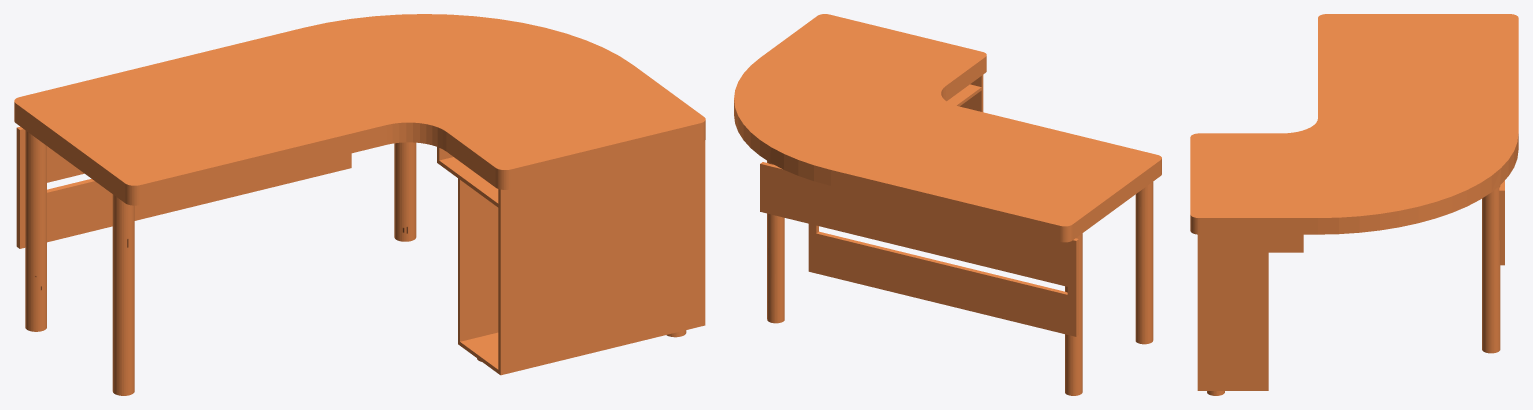
Rendered from desk.dae.
The picture shows the model from 3 angles, left to right: view 1: azimuth 30°, elevation 25°; view 2: azimuth 150°, elevation 25°; view 3: azimuth 270°, elevation 25°; orthographic projection. The views are drawn at different scales.
Visible parts, largest first — view 1: Teknik Resim Masa; view 2: Teknik Resim Masa; view 3: Teknik Resim Masa.
Part boxes in pixels (<box>): Teknik Resim Masa: <box>14,14,705,395</box>; Teknik Resim Masa: <box>734,14,1161,395</box>; Teknik Resim Masa: <box>1190,14,1518,395</box>.
Bounding box in the file's own units: 2.66 × 1.8 × 1.1.
